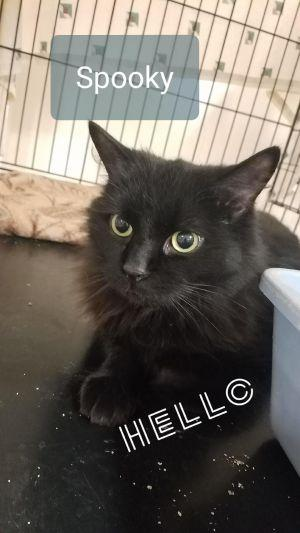persian: (77, 111, 287, 322)
